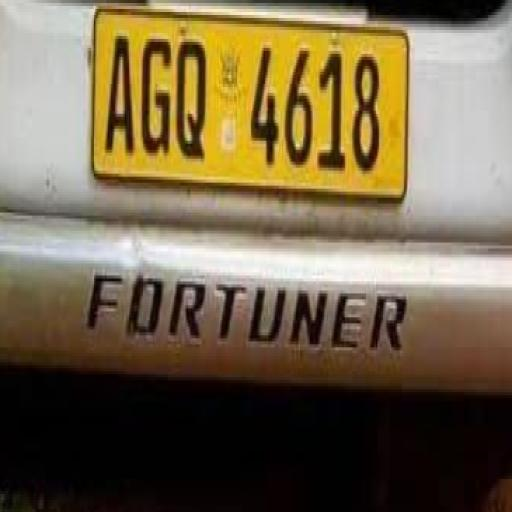number-plates: (100, 14, 404, 202)
